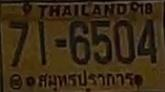0: (114, 19, 134, 63)
1: (38, 20, 46, 64)
4: (137, 18, 156, 62)
5: (91, 20, 111, 64)
6: (70, 20, 90, 64)
7: (8, 20, 28, 66)
SPK: (35, 68, 136, 90)
